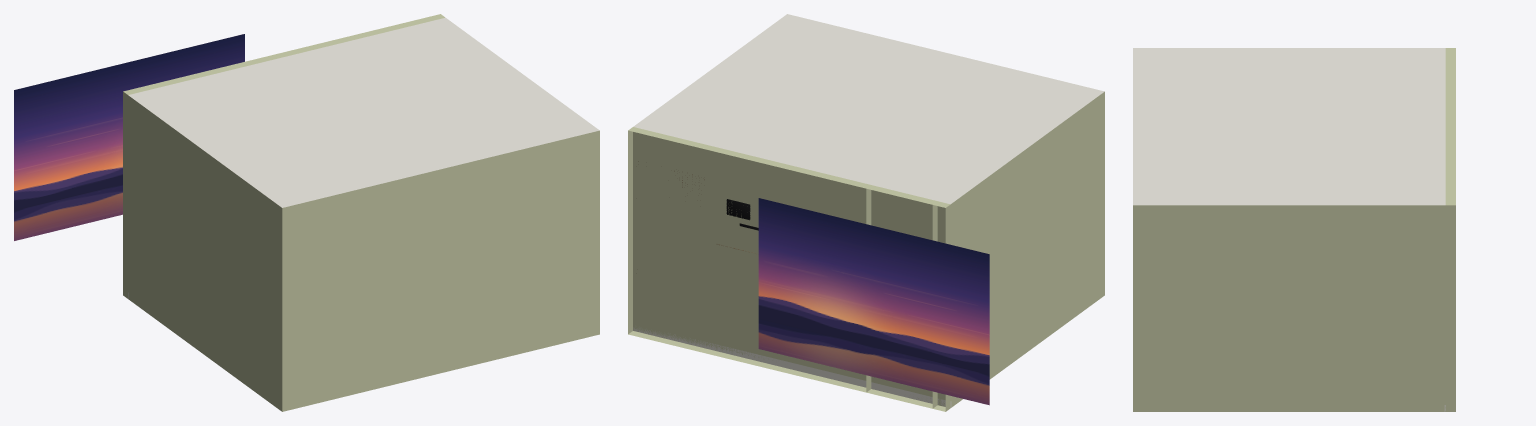
The model's file is studio.glb.
3 views of the same model, side by side, from view 1: azimuth 30°, elevation 25°; view 2: azimuth 150°, elevation 25°; view 3: azimuth 270°, elevation 25° (orthographic).
Visible parts, largest first — view 1: wall_front, ceiling, wall_left, win__sky, wall_back_r, wall_back_l; view 2: ceiling, win__sky, wall_back_r, wall_left, wall_back_t, baseboard, wall_back_b, wall_back_l; view 3: wall_right, ceiling, wall_back_r, wall_back_t.
Boxes of the visible parts, box(x1,y1,x2,y2) form: wall_front: box(282, 130, 599, 411); ceiling: box(128, 17, 599, 207); wall_left: box(128, 95, 282, 411); win__sky: box(14, 34, 244, 240); wall_back_r: box(203, 14, 444, 75); wall_back_l: box(123, 88, 140, 298); ceiling: box(633, 14, 1104, 204); win__sky: box(758, 198, 989, 405); wall_back_r: box(628, 127, 871, 392); wall_left: box(950, 91, 1104, 407); wall_back_t: box(866, 185, 937, 241); baseboard: box(633, 327, 951, 407); wall_back_b: box(866, 375, 937, 408); wall_back_l: box(932, 201, 950, 411); wall_right: box(1133, 205, 1445, 411); ceiling: box(1133, 48, 1445, 205); wall_back_r: box(1445, 87, 1455, 411); wall_back_t: box(1445, 54, 1455, 87).
Size of the model in its own units: 5.46 by 2.7 by 4.6.
48 materials, 13 textured.
